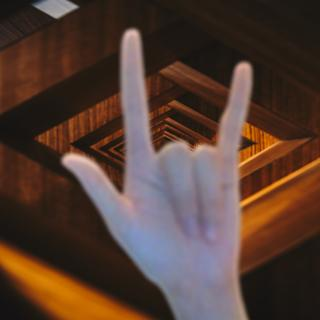ILY: (57, 23, 262, 293)
